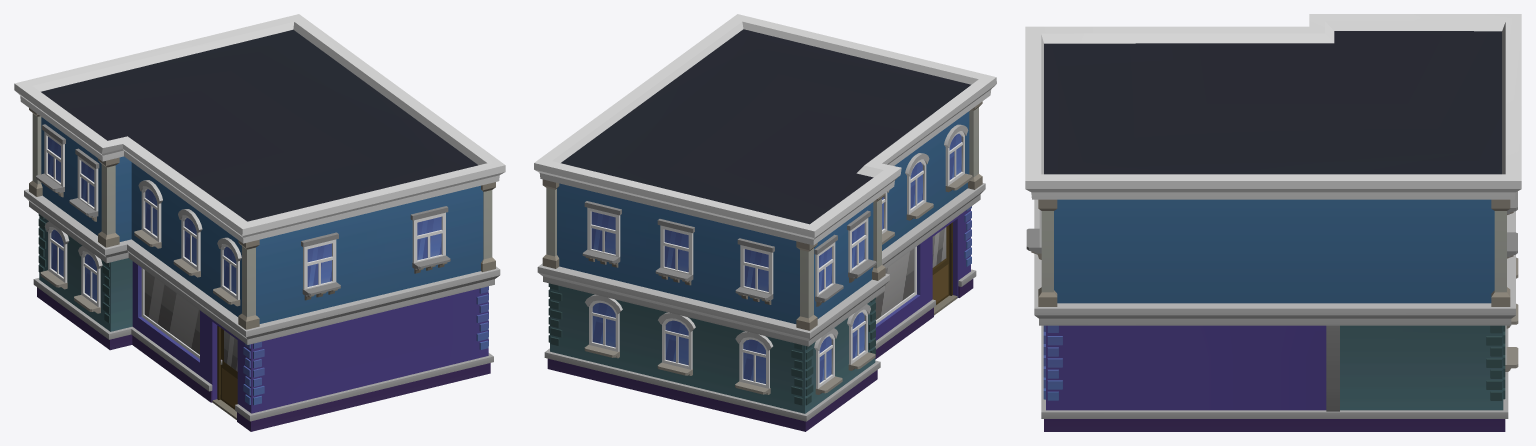
File: Building_1_I.fbx
The picture shows the model from 3 angles, left to right: view 1: azimuth 30°, elevation 25°; view 2: azimuth 150°, elevation 25°; view 3: azimuth 270°, elevation 25°; orthographic projection. The views are drawn at different scales.
Parts seen in each view (by area): view 1: Building_1_I; view 2: Building_1_I; view 3: Building_1_I.
Part boxes in pixels (x1,y1,x2,y2): Building_1_I: (14,14,505,431); Building_1_I: (534,14,996,431); Building_1_I: (1025,14,1521,431).
Bounding box in the file's own units: 841 × 600 × 1057.
